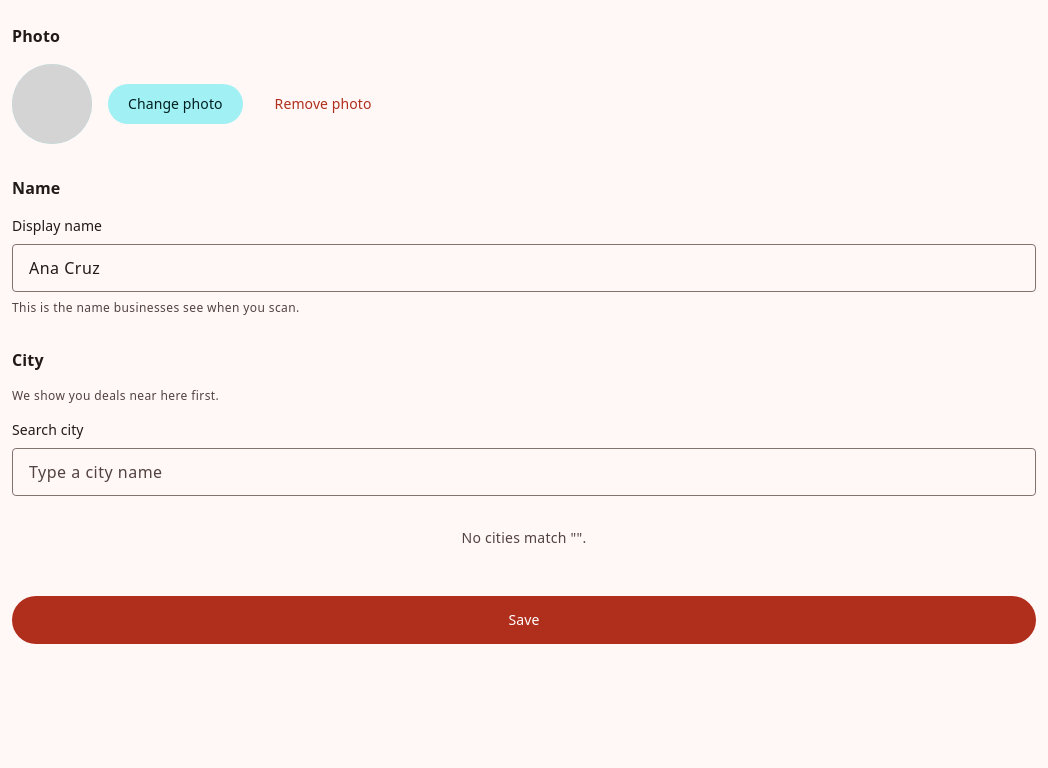
Test: ProfileEditForm: the avatar › CRITICAL: removing a photo goes back to the initials circle
Step 1. Click the button "Remove photo" → (323, 104), box [251,84,396,124]
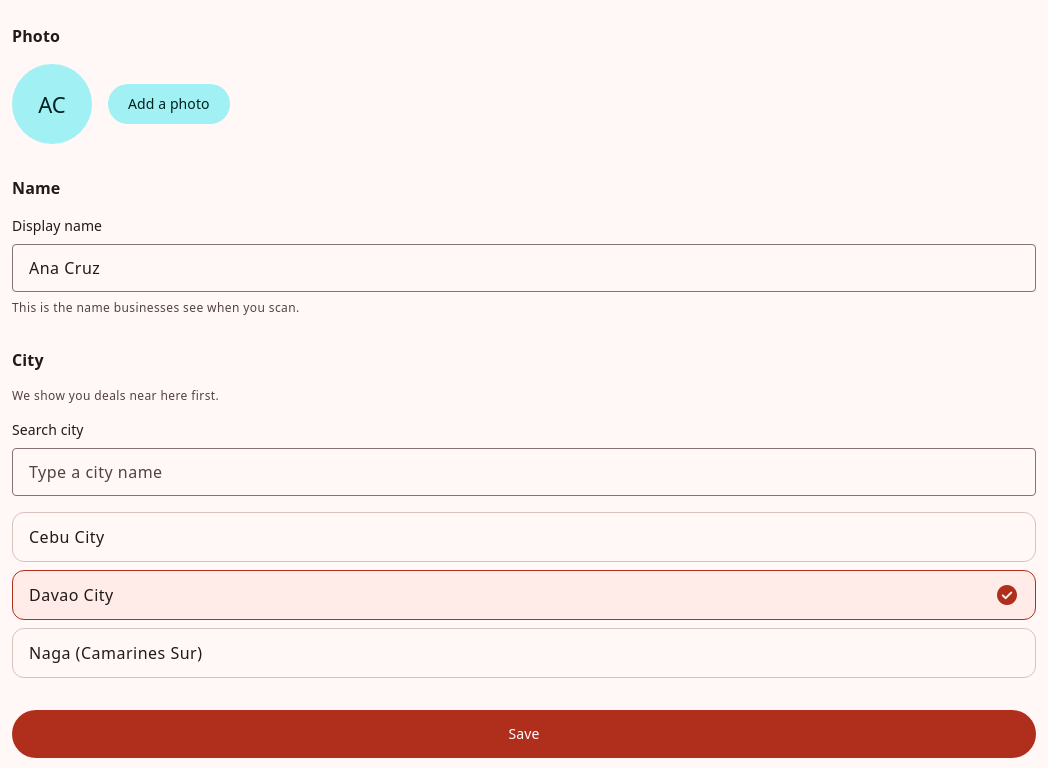
Result: the picture is gone
Result: the text "AC" is shown at [12,64,92,144]
